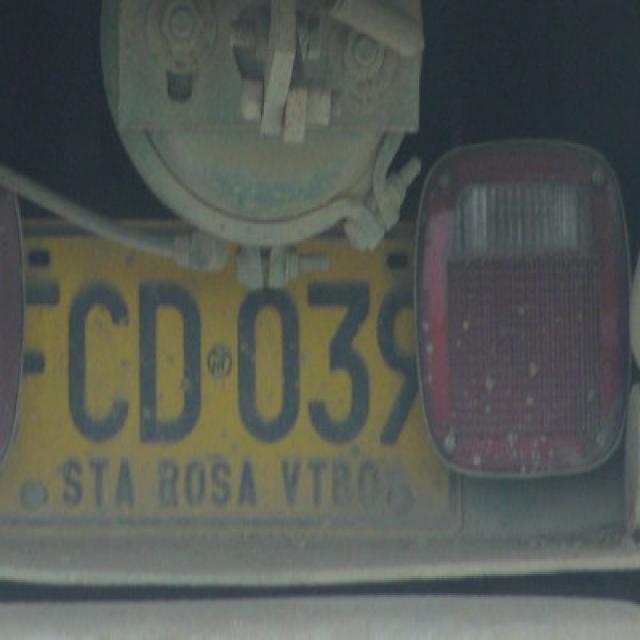placa_carro: (1, 194, 487, 585)
